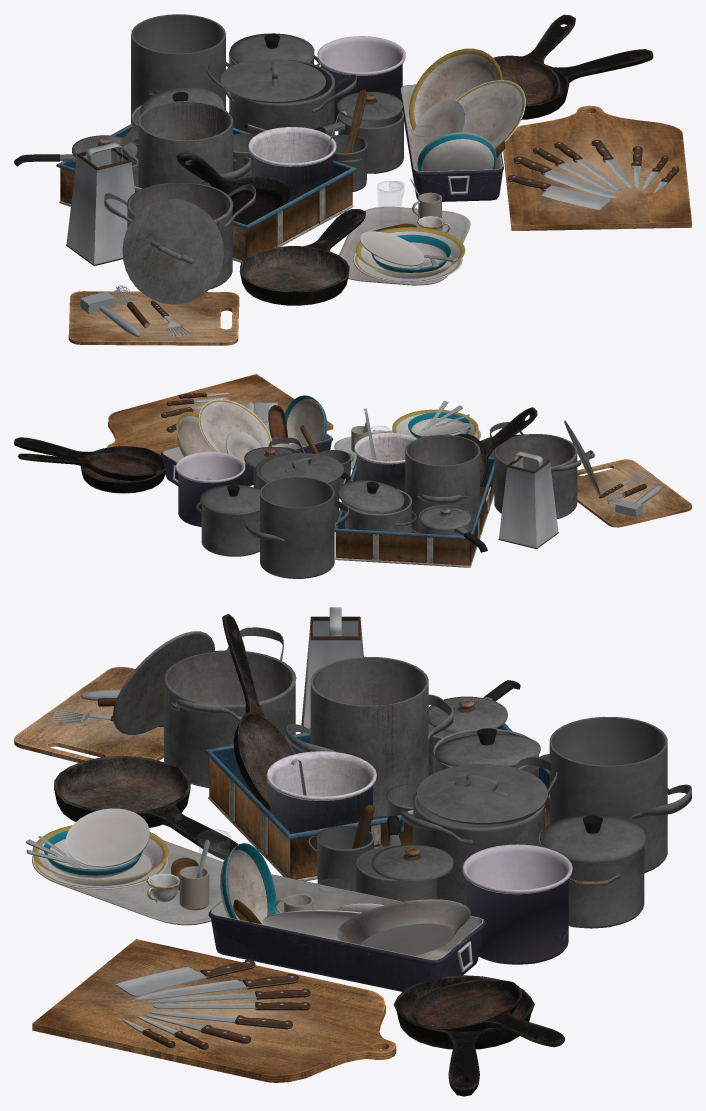
Rendered from restaurant_kitchen_set_-_part_1.glb.
3 views of the same model, one above another, from view 1: azimuth 30°, elevation 25°; view 2: azimuth 150°, elevation 25°; view 3: azimuth 270°, elevation 25° (orthographic). The views are drawn at different scales.
Visible parts, largest first — view 1: SM_CuttingBoard, SM_Pot_03_Top.001, SM_Pot_02.001, SM_CuttingBoard_Small, SM_Pot_02, SM_Pan_02.001, SM_CheeseGrater, SM_DishTray_02, SM_Pot_05.001, SM_Pot_05, SM_Pot_03, SM_Pot_03.001 (+30 smaller); view 2: SM_Pot_02, SM_DishTray_02, SM_Pot_02.001, SM_CuttingBoard, SM_CheeseGrater, SM_CuttingBoard_Small, SM_Pot_03.001, SM_Pot_05, SM_Pan_02, SM_Pot_05.001, SM_Plate_01.001, SM_Pot_01 (+21 smaller); view 3: SM_CuttingBoard, SM_Pot_02.001, SM_Pot_02, SM_DishTray_01, SM_Pot_03.001, SM_Pot_05, SM_Pan_02.001, SM_DishTray_02, SM_Pot_05.001, SM_CuttingBoard_Small, SM_Pot_03_Top, SM_Pan_01 (+30 smaller).
Boxes of the visible parts, x1,y1,x2,y2 form: SM_CuttingBoard: (503,105,691,230); SM_Pot_03_Top.001: (122,199,224,304); SM_Pot_02.001: (120,101,250,188); SM_CuttingBoard_Small: (68,291,239,345); SM_Pot_02: (131,14,225,123); SM_Pan_02.001: (239,209,365,305); SM_CheeseGrater: (66,142,134,265); SM_DishTray_02: (56,123,356,262); SM_Pot_05.001: (248,127,336,202); SM_Pot_05: (317,36,405,122); SM_Pot_03: (207,59,356,136); SM_Pot_03.001: (104,182,255,289); SM_Pot_02: (245,476,348,578); SM_DishTray_02: (334,457,494,567); SM_Pot_02.001: (405,434,480,532); SM_CuttingBoard: (107,374,333,454); SM_CheeseGrater: (498,451,558,549); SM_CuttingBoard_Small: (577,459,691,527); SM_Pot_03.001: (490,422,581,519); SM_Pot_05: (175,451,245,526); SM_Pan_02: (14,437,165,493); SM_Pot_05.001: (354,432,416,491); SM_Plate_01.001: (198,399,273,453); SM_Pot_01: (196,502,259,556); SM_CuttingBoard: (32,939,396,1082); SM_Pot_02.001: (286,656,453,818); SM_Pot_02: (525,716,691,873); SM_DishTray_01: (208,874,485,991); SM_Pot_03.001: (163,627,296,787); SM_Pot_05: (462,844,572,964); SM_Pan_02.001: (54,756,238,859); SM_DishTray_02: (205,723,549,881); SM_Pot_05.001: (266,751,376,833); SM_CuttingBoard_Small: (14,667,163,762); SM_Pot_03_Top: (416,764,547,824); SM_Pan_01: (408,979,564,1047).
Size of the model in its own units: 257 by 42.44 by 168.
8 materials, 8 textured.
